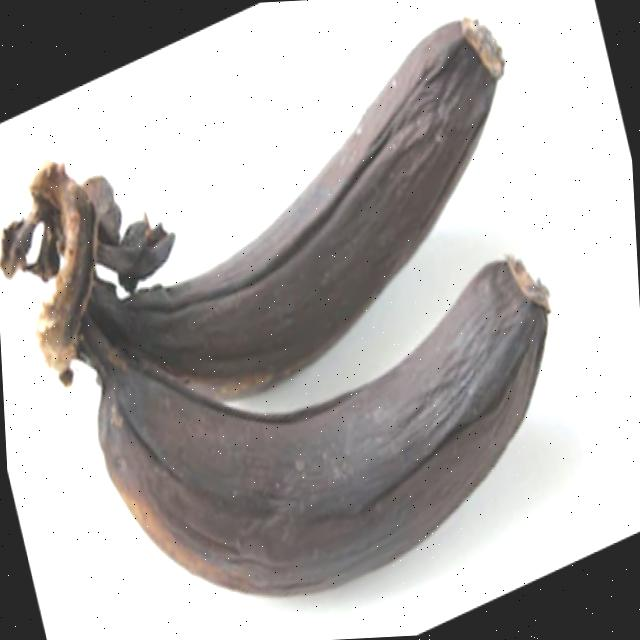rotten banana: (30, 0, 521, 406), (57, 283, 570, 622)
